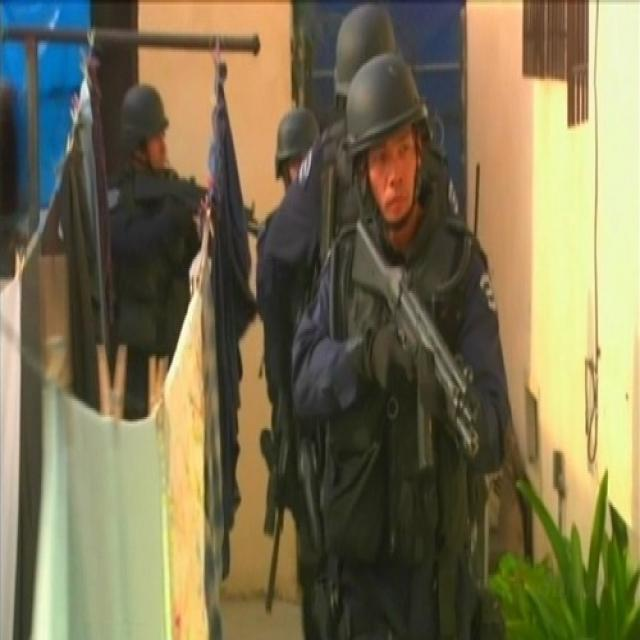rifle: (349, 219, 487, 466)
